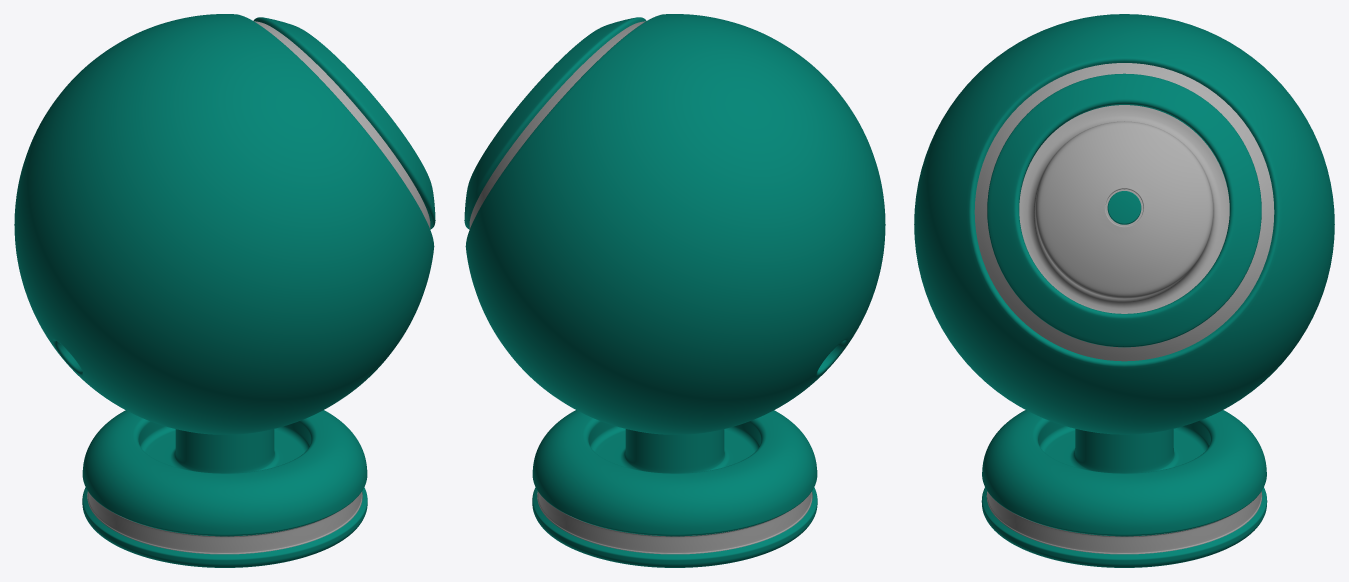
Rendered from TMA_Matball.fbx.
The picture shows the model from 3 angles, left to right: view 1: azimuth 30°, elevation 25°; view 2: azimuth 150°, elevation 25°; view 3: azimuth 270°, elevation 25°; orthographic projection.
Visible parts, largest first — view 1: TMA_Matball_One, TMA_Matball_Two; view 2: TMA_Matball_One, TMA_Matball_Two; view 3: TMA_Matball_One, TMA_Matball_Two.
Part boxes in pixels (bbox=[...]): TMA_Matball_One: bbox=[14, 14, 435, 567]; TMA_Matball_Two: bbox=[87, 21, 430, 554]; TMA_Matball_One: bbox=[464, 14, 885, 567]; TMA_Matball_Two: bbox=[469, 21, 812, 554]; TMA_Matball_One: bbox=[914, 14, 1334, 567]; TMA_Matball_Two: bbox=[974, 63, 1274, 554].
Size of the model in its own units: 100 by 125 by 100.
